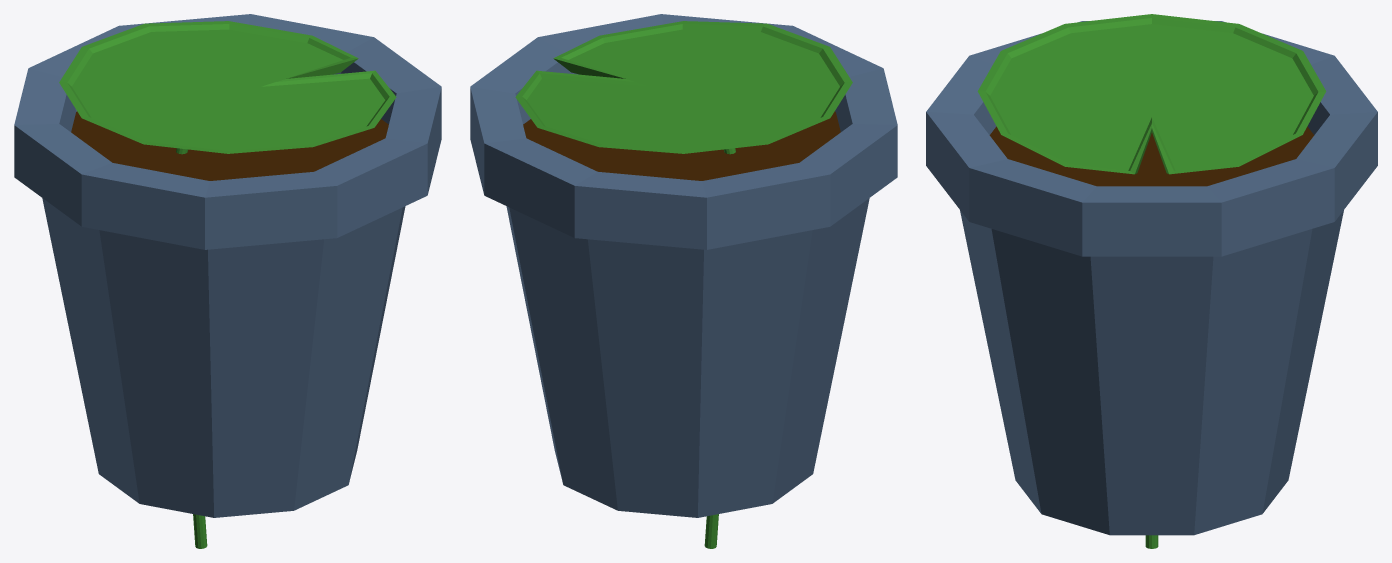
Rendered from garden_plant_lotusleap-simple.fbx.
3 views of the same model, side by side, from view 1: azimuth 30°, elevation 25°; view 2: azimuth 150°, elevation 25°; view 3: azimuth 270°, elevation 25° (orthographic). The views are drawn at different scales.
Visible parts, largest first — view 1: Cylinder, Cylinder.003, Cylinder.001; view 2: Cylinder, Cylinder.003, Cylinder.001; view 3: Cylinder, Cylinder.003, Cylinder.001.
Part boxes in pixels (x1,y1,x2,y2): Cylinder: (14, 14, 441, 517); Cylinder.003: (59, 21, 396, 548); Cylinder.001: (71, 111, 388, 180); Cylinder: (470, 14, 897, 517); Cylinder.003: (515, 21, 852, 548); Cylinder.001: (523, 111, 840, 180); Cylinder: (926, 21, 1377, 535); Cylinder.003: (977, 14, 1326, 548); Cylinder.001: (989, 126, 1314, 186).
Bounding box in the file's own units: 459 × 558 × 483.
